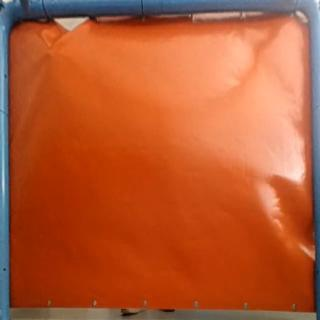Hit-hRxx: (40, 45, 58, 61)
